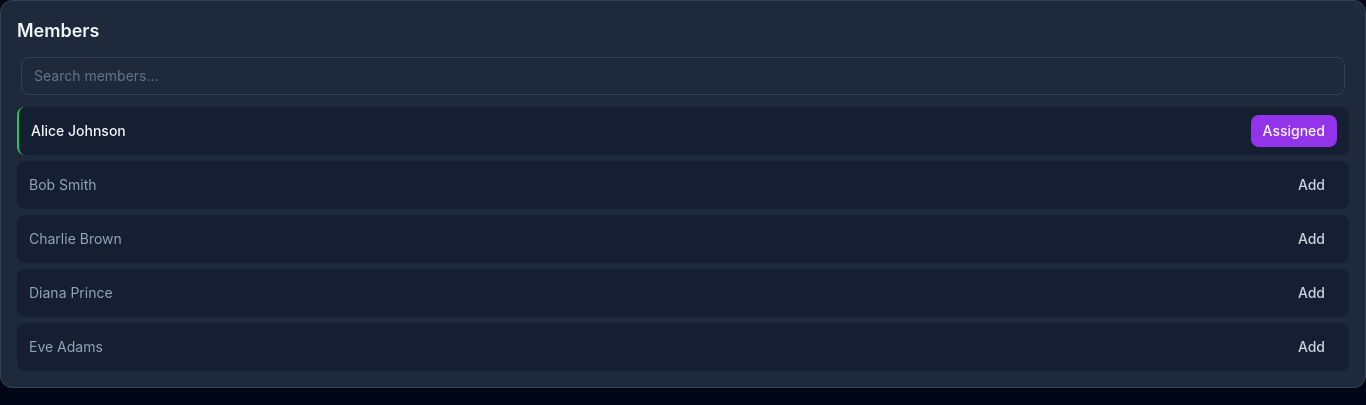
Test: AssignmentToggleList › search filtering › filters people by name (case-insensitive)
Type "ali" into the field with placeholder "Search members..." at (683, 76), box x1=21 y1=57 x2=1345 y2=95
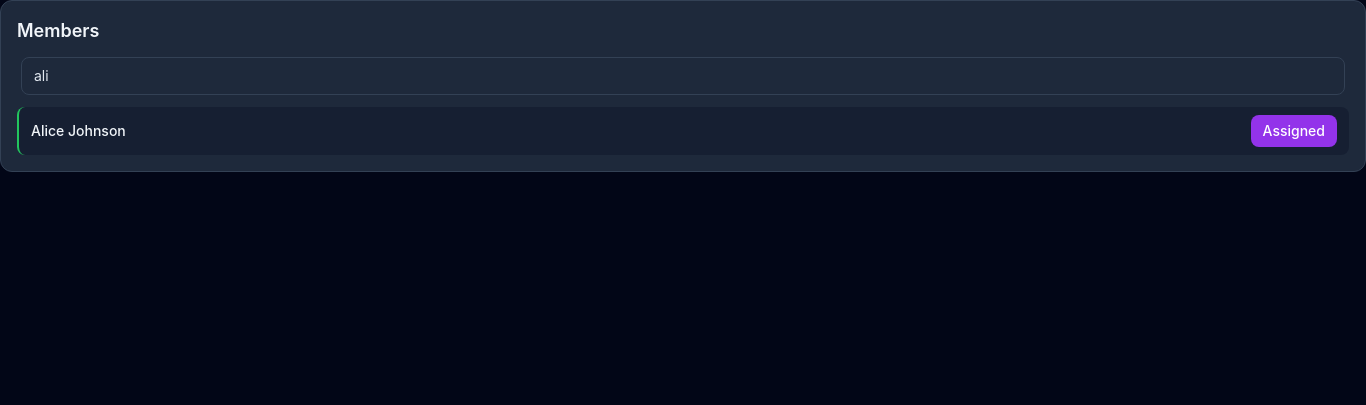
Result: the text "Bob Smith" is gone
Result: the text "Charlie Brown" is gone
Result: the text "Diana Prince" is gone
